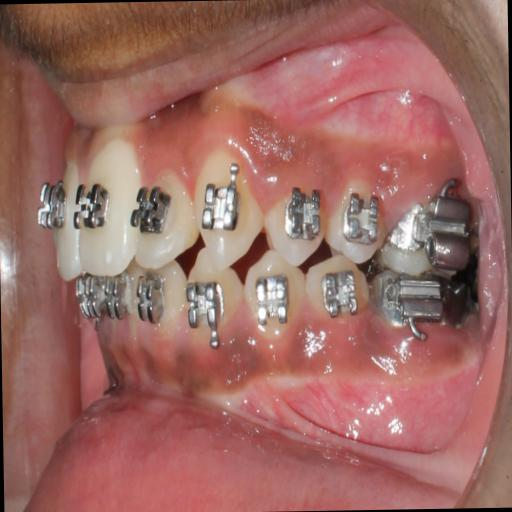correct_brace: (262, 178, 326, 262), (132, 183, 174, 240), (198, 180, 242, 232), (74, 180, 112, 232)
incorrect_brace: (132, 164, 198, 262), (283, 186, 324, 240)
